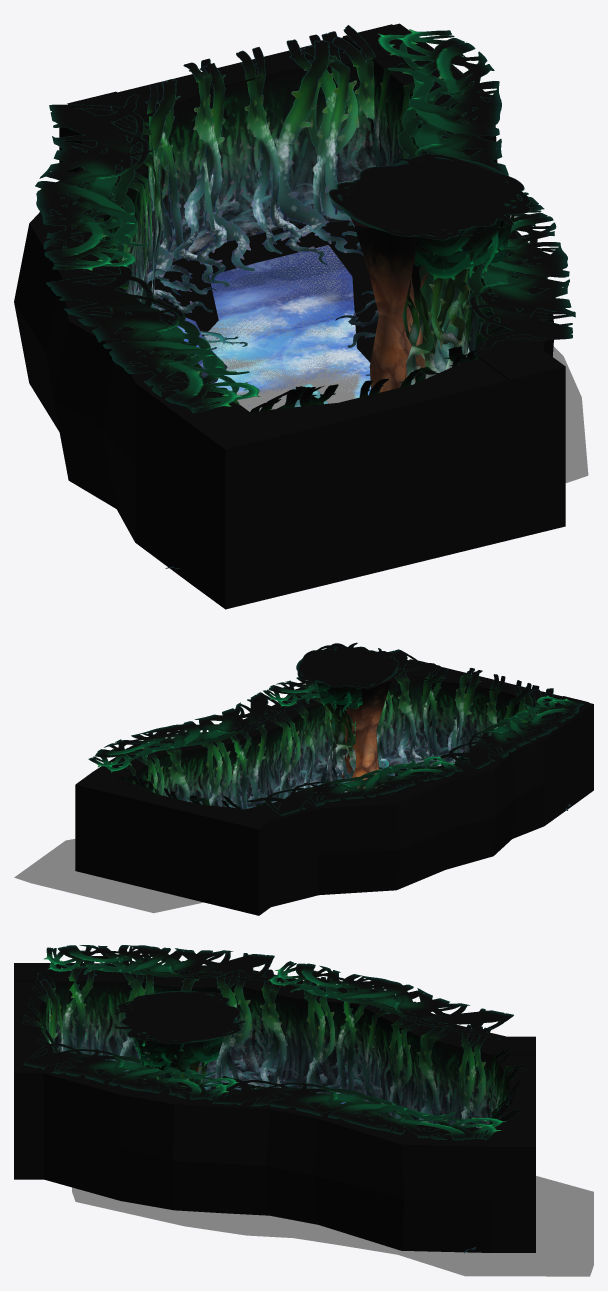
The model's file is Dungeon_012_Road_003.fbx.
The picture shows the model from 3 angles, top to bottom: view 1: azimuth 30°, elevation 25°; view 2: azimuth 150°, elevation 25°; view 3: azimuth 270°, elevation 25°; orthographic projection. The views are drawn at different scales.
Visible parts, largest first — view 1: un_021_Door_002 (×2), Dan1, Dungeon_021_Tsuta_002, un_021_Door_002_Object1 (×2), Dan2, Dungeon_021_Object_010, Radar, Dungeon_021_Tsuta_001, Dungeon_011_Object_010, Dungeon_021_Object_011, Dan1_shadow, Dun_011_Door_002_shadow; view 2: Dan1, un_021_Door_002 (×2), Dungeon_021_Tsuta_002, Dungeon_021_Tsuta_001, un_021_Door_002_Object1 (×2), Dungeon_021_Object_010, Radar, Dungeon_011_Object_010, Dungeon_021_Object_011; view 3: Dan1, Dungeon_021_Tsuta_002, Dungeon_021_Tsuta_001, Radar, Dungeon_021_Object_010, un_021_Door_002 (×2), un_021_Door_002_Object1 (×2), Dungeon_021_Object_011.
Part boxes in pixels (bbox=[...]): un_021_Door_002 (×2): bbox=[67, 24, 557, 595]; Dan1: bbox=[14, 23, 565, 609]; Dungeon_021_Tsuta_002: bbox=[35, 29, 575, 412]; un_021_Door_002_Object1 (×2): bbox=[145, 25, 479, 569]; Dan2: bbox=[204, 245, 370, 406]; Dungeon_021_Object_010: bbox=[328, 153, 530, 283]; Radar: bbox=[204, 215, 588, 482]; Dungeon_021_Tsuta_001: bbox=[46, 60, 521, 405]; Dungeon_011_Object_010: bbox=[350, 217, 437, 392]; Dungeon_021_Object_011: bbox=[402, 226, 485, 384]; Dan1_shadow: bbox=[148, 220, 378, 362]; Dun_011_Door_002_shadow: bbox=[196, 225, 328, 275]; Dan1: bbox=[75, 659, 593, 915]; un_021_Door_002 (×2): bbox=[80, 660, 589, 908]; Dungeon_021_Tsuta_002: bbox=[88, 649, 583, 815]; Dungeon_021_Tsuta_001: bbox=[120, 668, 553, 809]; un_021_Door_002_Object1 (×2): bbox=[116, 666, 570, 810]; Dungeon_021_Object_010: bbox=[296, 642, 399, 713]; Radar: bbox=[14, 839, 203, 913]; Dungeon_011_Object_010: bbox=[341, 678, 391, 791]; Dungeon_021_Object_011: bbox=[315, 687, 379, 792]; Dan1: bbox=[14, 963, 535, 1252]; Dungeon_021_Tsuta_002: bbox=[23, 945, 513, 1140]; Dungeon_021_Tsuta_001: bbox=[62, 960, 491, 1129]; Radar: bbox=[72, 1176, 593, 1276]; Dungeon_021_Object_010: bbox=[114, 990, 245, 1073]; un_021_Door_002 (×2): bbox=[14, 964, 535, 1143]; un_021_Door_002_Object1 (×2): bbox=[22, 968, 527, 1253]; Dungeon_021_Object_011: bbox=[134, 1038, 208, 1087].
Size of what is drawn, in the model's own units: 8.69 by 3.03 by 10.
